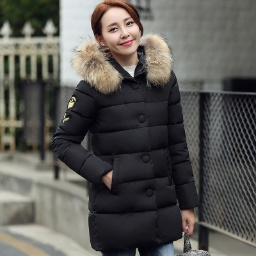face: (85, 1, 156, 61)
